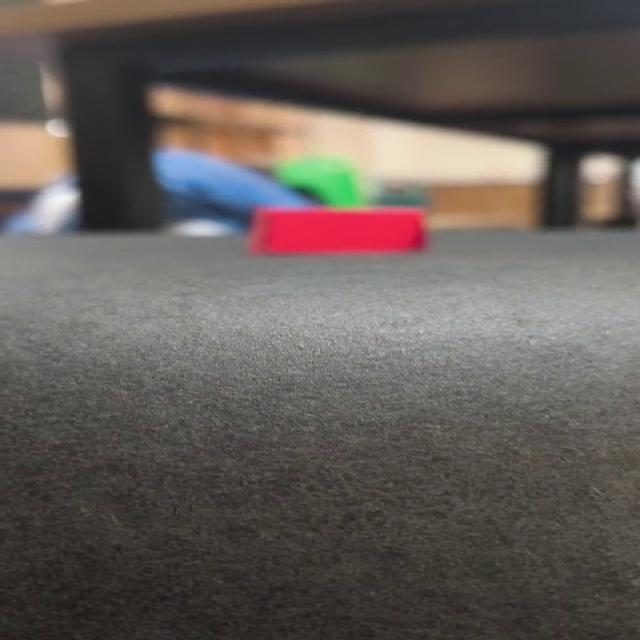red block: (245, 204, 427, 256)
